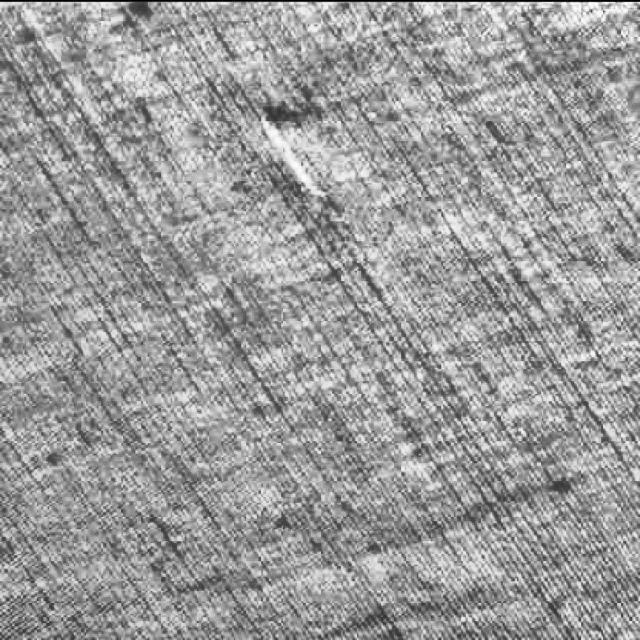thread_error: (242, 91, 330, 213)
